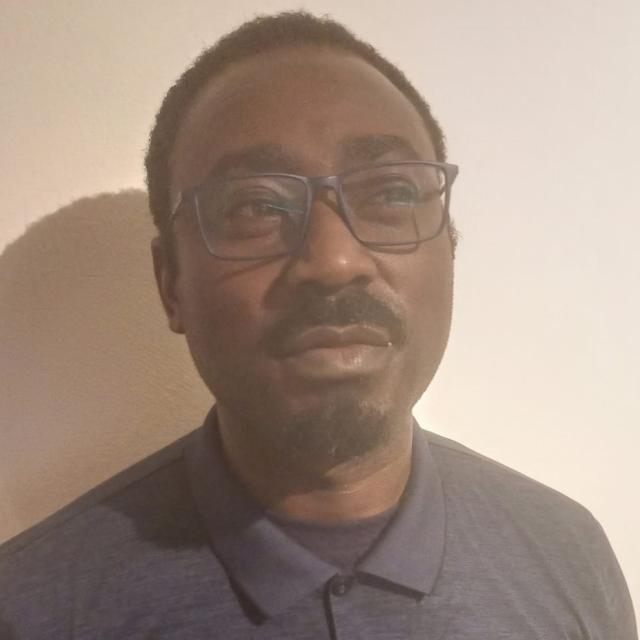sad: (144, 53, 458, 466)
